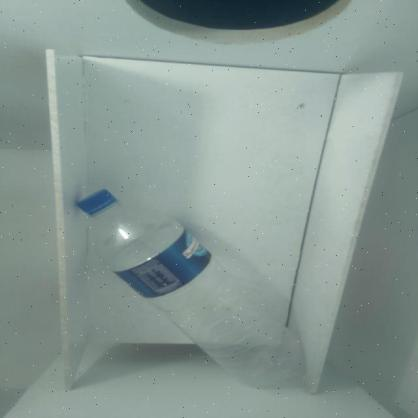bottle: (71, 167, 318, 397)
cap: (74, 182, 118, 219)
label: (110, 229, 211, 303)
